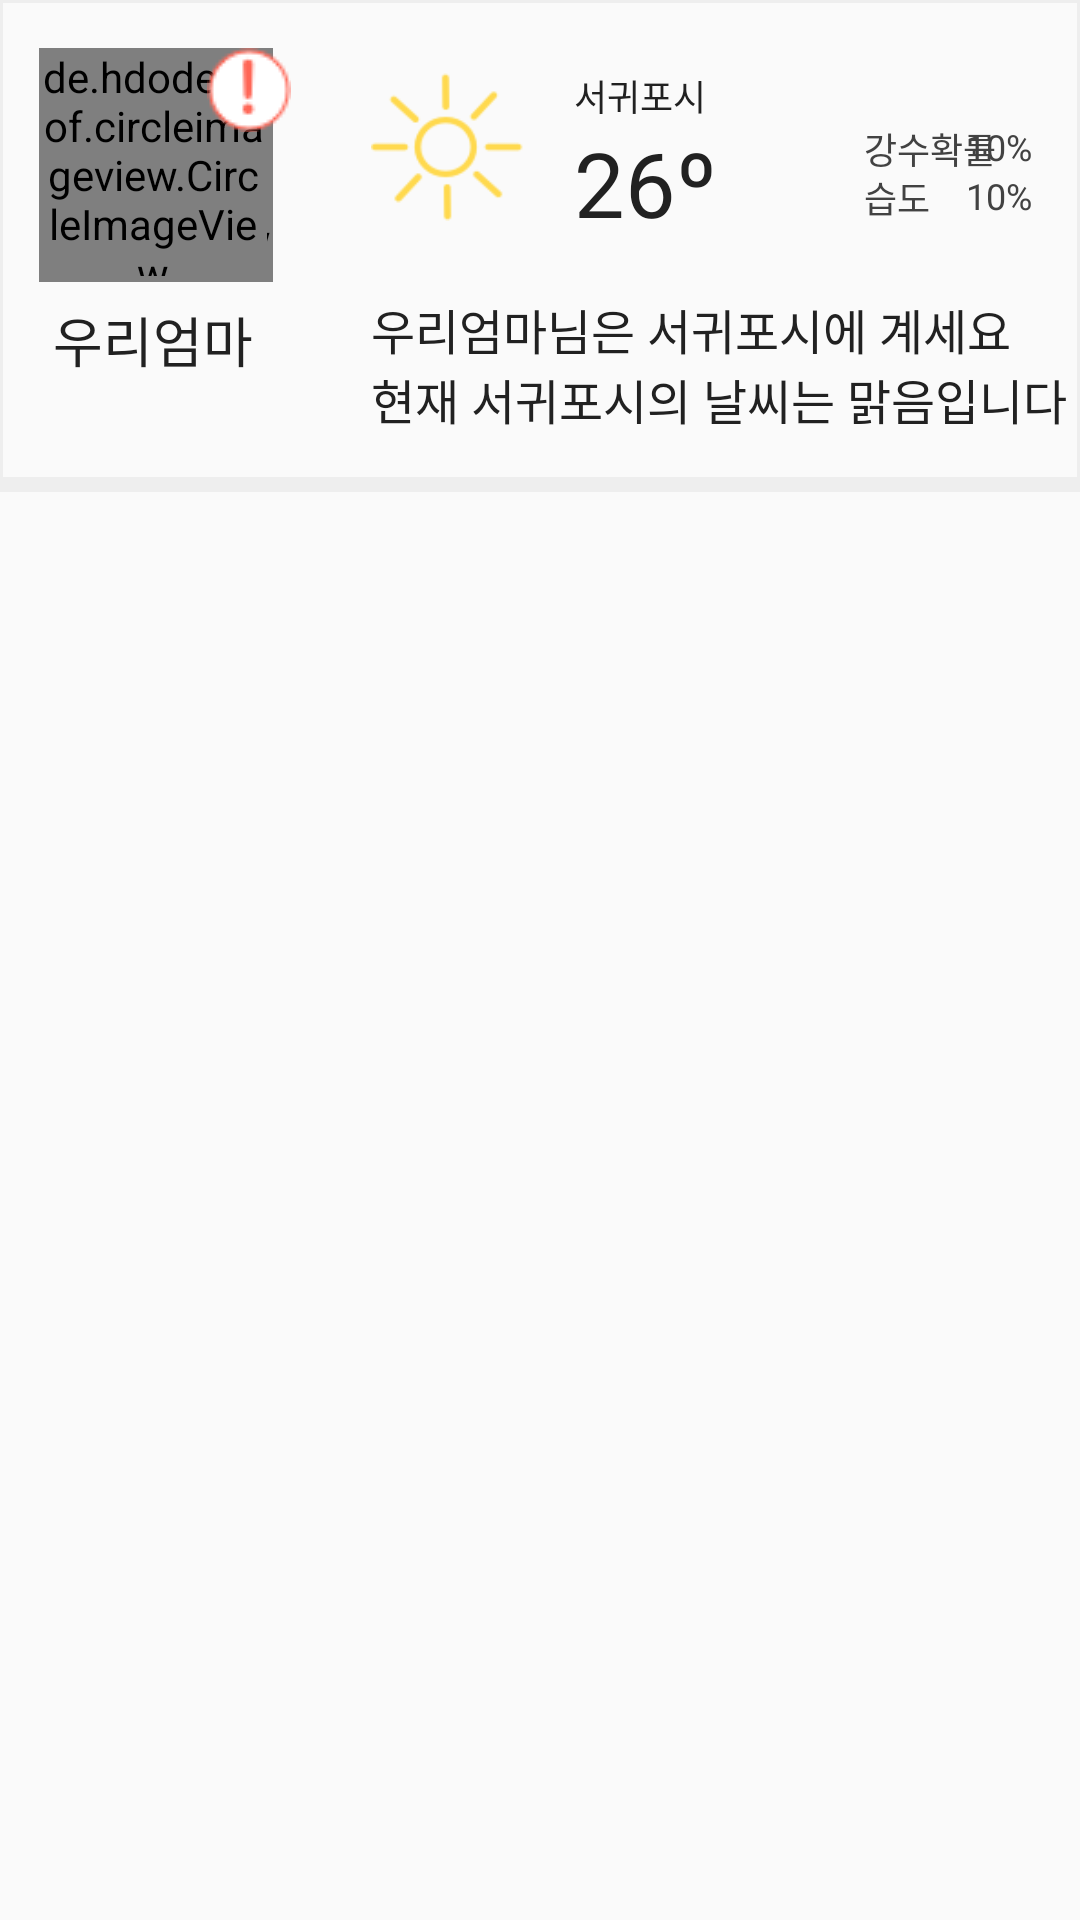

Where to tap for icons on this 1080*1920 app screen, as point (x, y):
clear: point (447, 147)
warn: point (249, 90)
